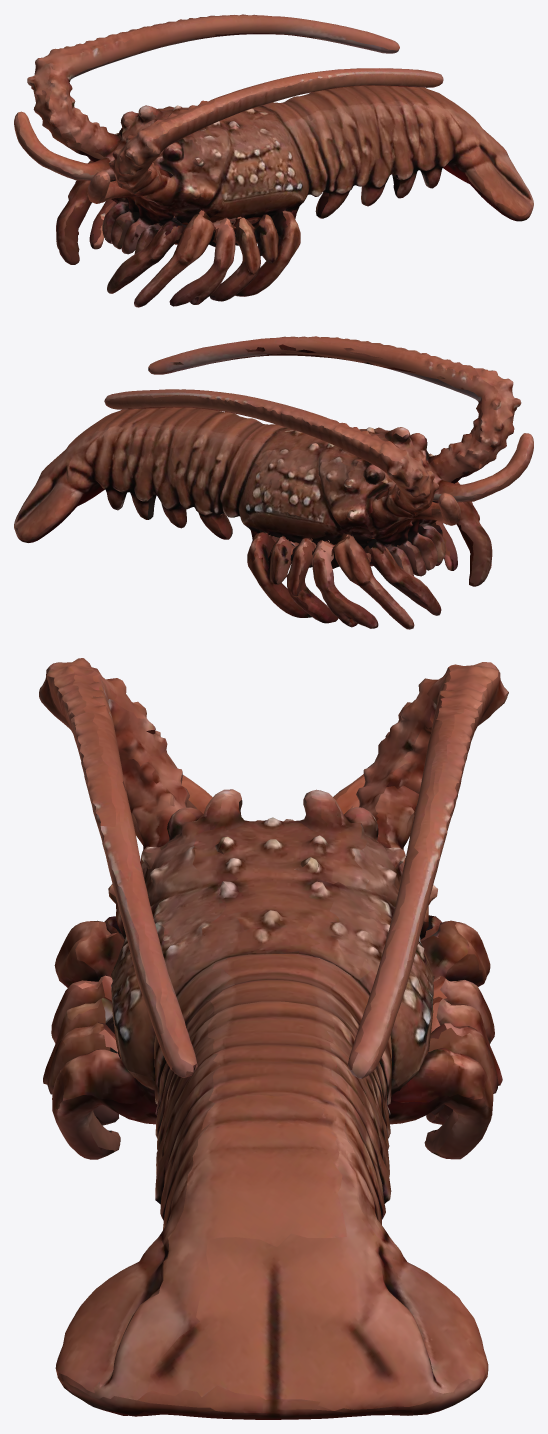
Rendered from lobster.glb.
The picture shows the model from 3 angles, top to bottom: view 1: azimuth 30°, elevation 25°; view 2: azimuth 150°, elevation 25°; view 3: azimuth 270°, elevation 25°; orthographic projection. The views are drawn at different scales.
Parts seen in each view (by area): view 1: tmpf_q99_6j.ply; view 2: tmpf_q99_6j.ply; view 3: tmpf_q99_6j.ply.
Part boxes in pixels (x1=…): tmpf_q99_6j.ply: x1=14, y1=14, x2=533, y2=307; tmpf_q99_6j.ply: x1=14, y1=336, x2=533, y2=629; tmpf_q99_6j.ply: x1=39, y1=658, x2=508, y2=1419.
Size of the model in its own units: 0.9871 by 0.4312 by 0.4453.
Materials: 1 (1 with a texture image).
